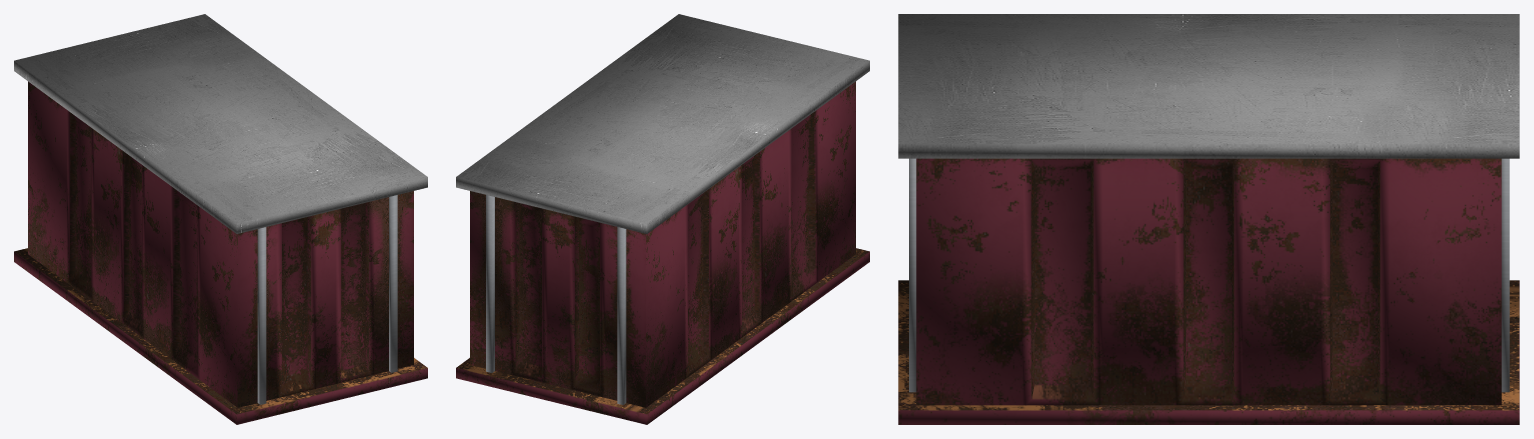
Rendered from container.gltf.
The picture shows the model from 3 angles, left to right: view 1: azimuth 30°, elevation 25°; view 2: azimuth 150°, elevation 25°; view 3: azimuth 270°, elevation 25°; orthographic projection. The views are drawn at different scales.
Parts seen in each view (by area): view 1: container; view 2: container; view 3: container.
Part boxes in pixels (x1,y1,x2,y2): container: (14,14,427,424); container: (456,14,869,424); container: (898,14,1519,424).
Bounding box in the file's own units: 2.04 × 2.06 × 4.13.
Materials: 3 (3 with a texture image).
